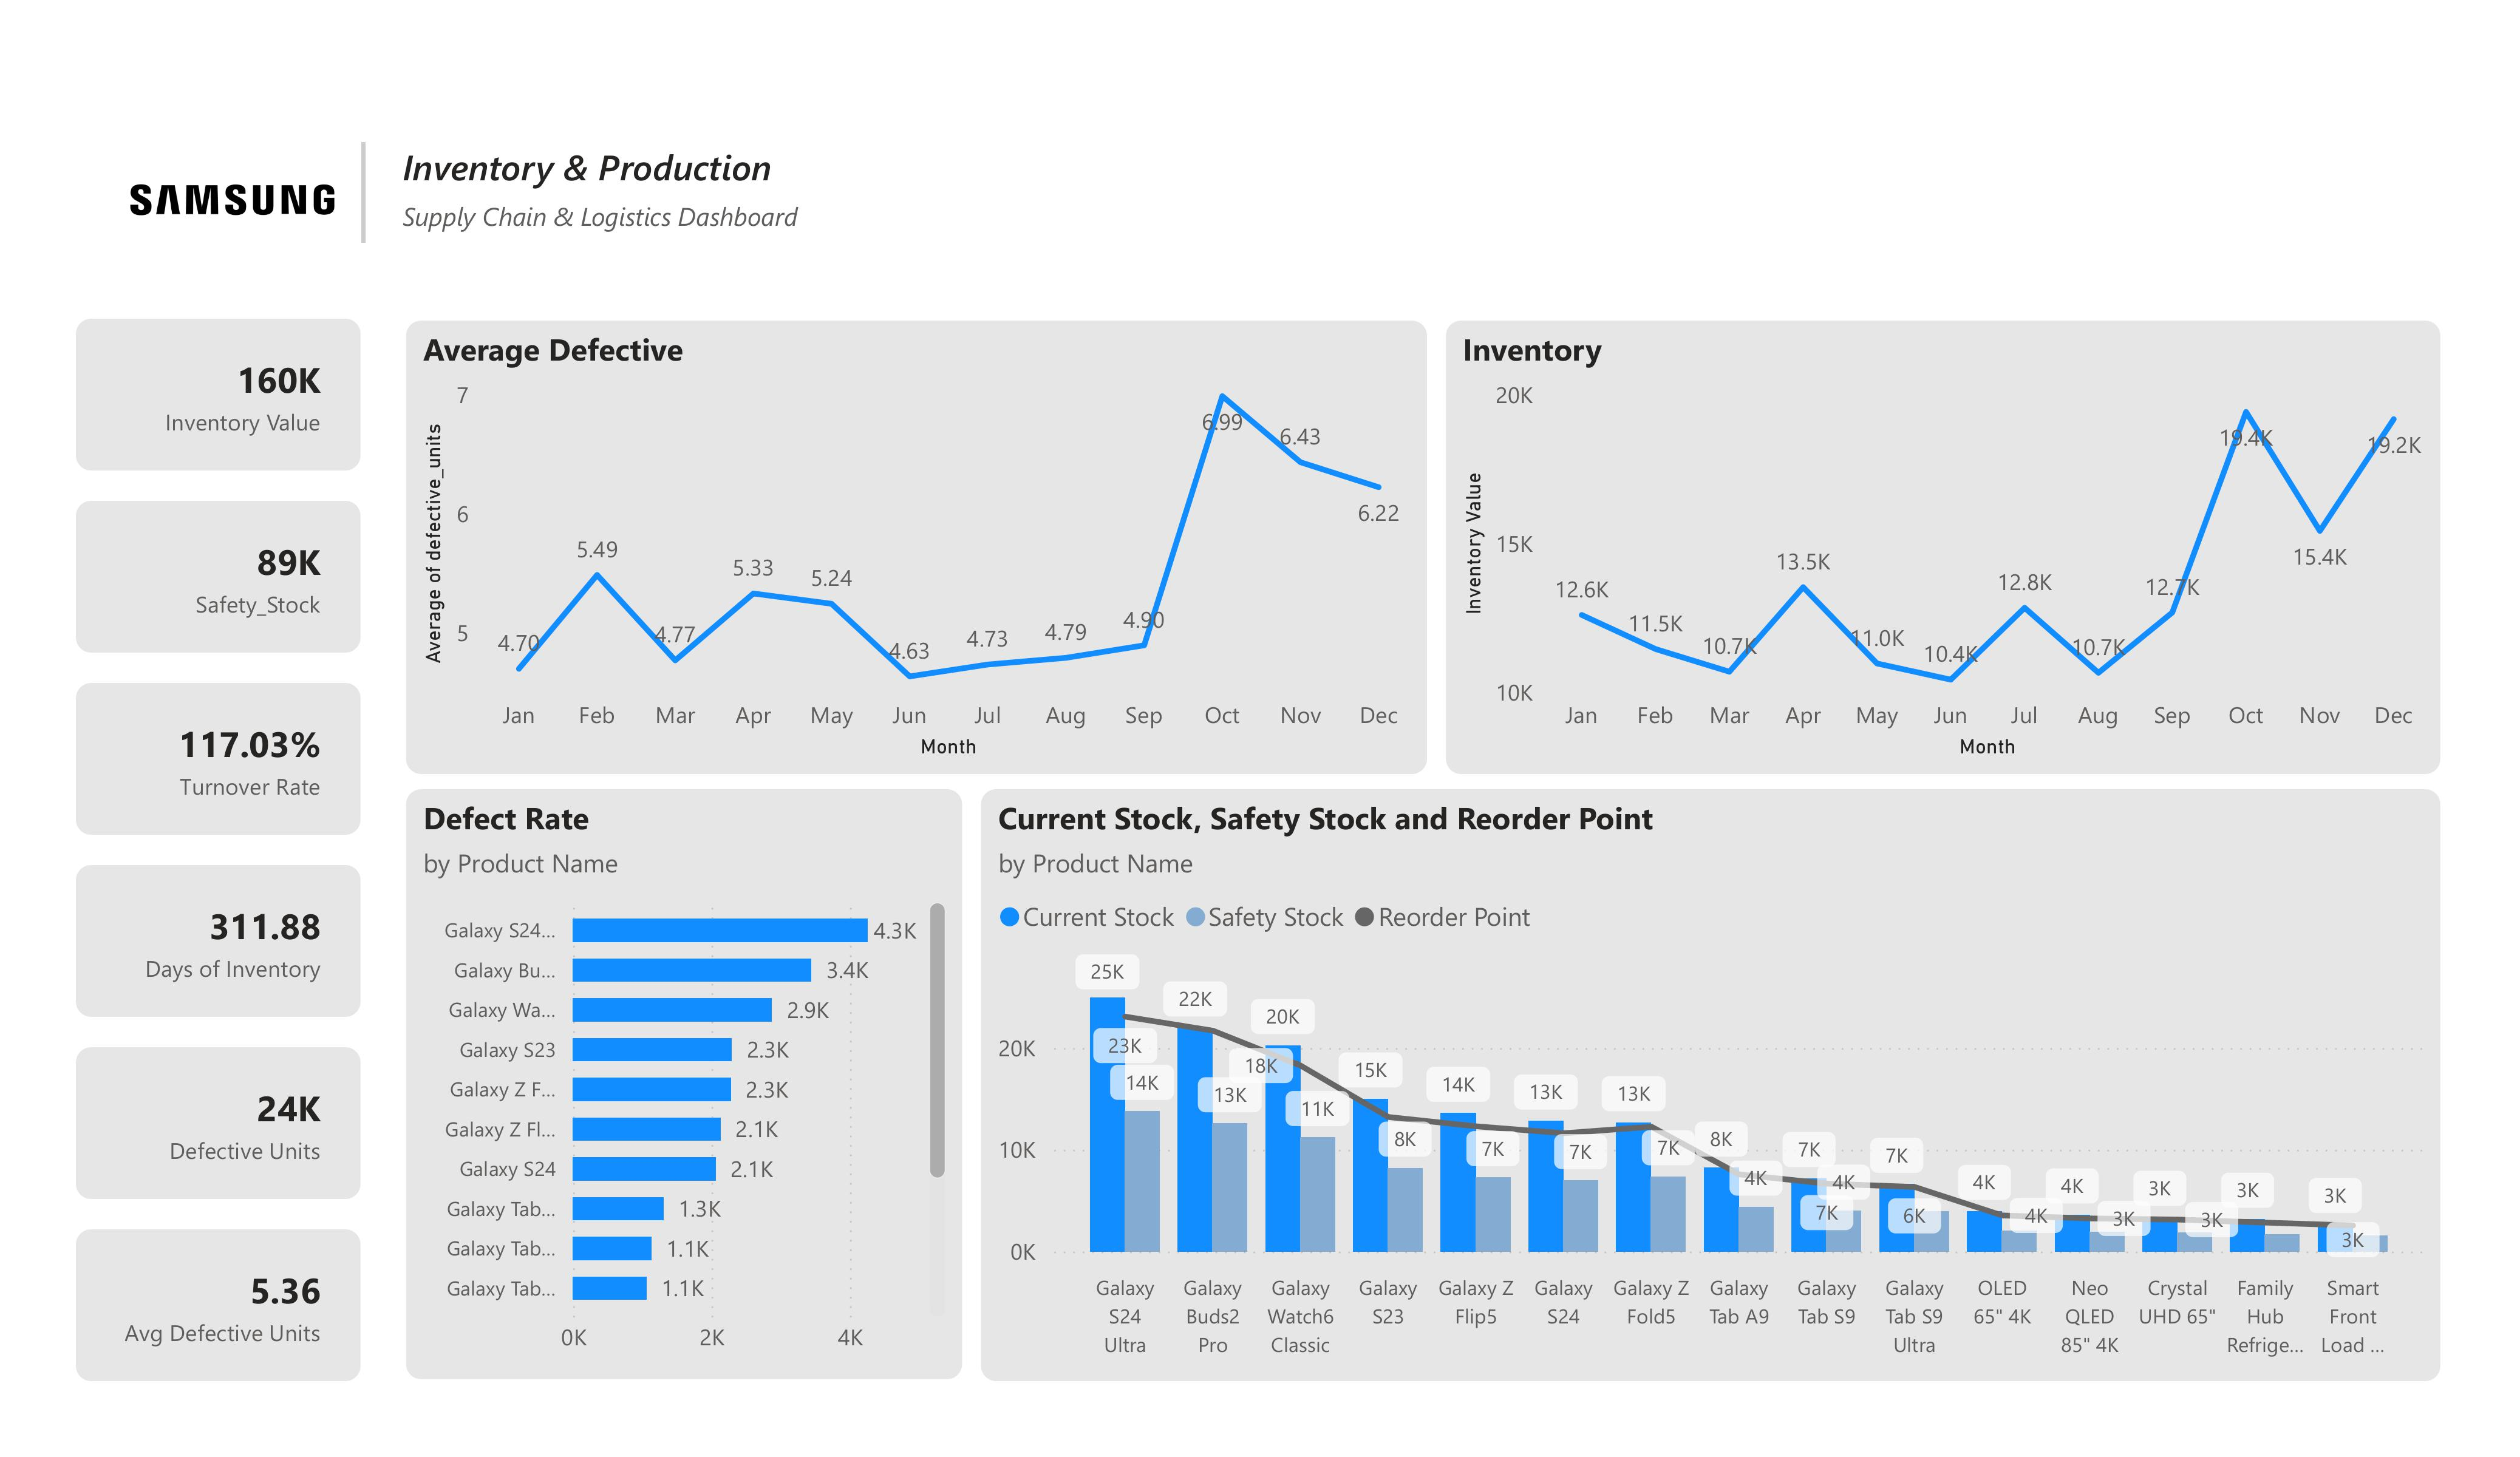

The page's visual inventory and layout, read from the dashboard file:
{"tool":"powerbi","page":{"name":"Inventory","canvas":[1280,720],"ordinal":3},"visuals":[{"type":"textbox","title":"Inventory & Production","box":[183.3,51,228.6,52.5],"z":0},{"type":"shape","box":[152.2,51,31.1,52.5],"z":1000},{"type":"image","box":[35.5,51,120,60],"z":2000},{"type":"cardVisual","fields":{"Data":["MeasuresTable.Safety_Stock"]},"box":[15.7,240.3,150,80],"z":3000},{"type":"cardVisual","fields":{"Data":["MeasureTable.Turnover Rate"]},"box":[15.7,336.3,150,80],"z":4000},{"type":"cardVisual","fields":{"Data":["MeasureTable.Days of Inventory"]},"box":[15.8,432.3,149.8,79.8],"z":5000},{"type":"cardVisual","fields":{"Data":["Sum(fact_production.defective_units)"]},"box":[15.8,528.1,149.8,79.8],"z":6000},{"type":"cardVisual","fields":{"Data":["Avg(fact_production.defective_units)"]},"box":[15.8,623.9,149.8,79.8],"z":7000},{"type":"cardVisual","fields":{"Data":["MeasuresTable.Inventory Value"]},"box":[15.9,144.3,150,80],"z":8000},{"type":"barChart","fields":{"Y":["MeasureTable.Defect_rate"],"Category":["dim_product.product_name"]},"box":[189.8,391.9,293.5,311.2],"z":9000},{"type":"lineClusteredColumnComboChart","fields":{"Category":["dim_product.product_name"],"Y":["MeasureTable.Inventory Quantity","MeasureTable.Safety_Stock"],"Y2":["MeasureTable.Reorder Point"]},"box":[493,391.9,768.8,312.1],"z":10000},{"type":"lineChart","title":"Average Defective","fields":{"Y":["Avg(fact_production.defective_units)"],"Category":["dim_date.Month_Name_Short"]},"box":[189.8,144.5,538.2,239.4],"z":11000},{"type":"lineChart","title":"Inventory","fields":{"Y":["MeasureTable.Inventory Value"],"Category":["dim_date.Month_Name_Short"]},"box":[737.7,144.5,524,239.4],"z":12000}]}

Visuals, with their boxes on the page's 1280x720 design canvas (x1, y1, x2, y2). These are canvas units, not pixel positions in the 2520x1457 screenshot, which may show the page scaled, cropped or inside an application window:
"Inventory & Production" textbox: {"left": 183, "top": 51, "right": 412, "bottom": 104}
shape: {"left": 152, "top": 51, "right": 183, "bottom": 104}
image: {"left": 36, "top": 51, "right": 156, "bottom": 111}
cardVisual - MeasuresTable.Safety_Stock: {"left": 16, "top": 240, "right": 166, "bottom": 320}
cardVisual - MeasureTable.Turnover Rate: {"left": 16, "top": 336, "right": 166, "bottom": 416}
cardVisual - MeasureTable.Days of Inventory: {"left": 16, "top": 432, "right": 166, "bottom": 512}
cardVisual - Sum(fact_production.defective_units): {"left": 16, "top": 528, "right": 166, "bottom": 608}
cardVisual - Avg(fact_production.defective_units): {"left": 16, "top": 624, "right": 166, "bottom": 704}
cardVisual - MeasuresTable.Inventory Value: {"left": 16, "top": 144, "right": 166, "bottom": 224}
barChart - MeasureTable.Defect_rate x dim_product.product_name: {"left": 190, "top": 392, "right": 483, "bottom": 703}
lineClusteredColumnComboChart - dim_product.product_name x MeasureTable.Inventory Quantity: {"left": 493, "top": 392, "right": 1262, "bottom": 704}
"Average Defective" lineChart: {"left": 190, "top": 144, "right": 728, "bottom": 384}
"Inventory" lineChart: {"left": 738, "top": 144, "right": 1262, "bottom": 384}
